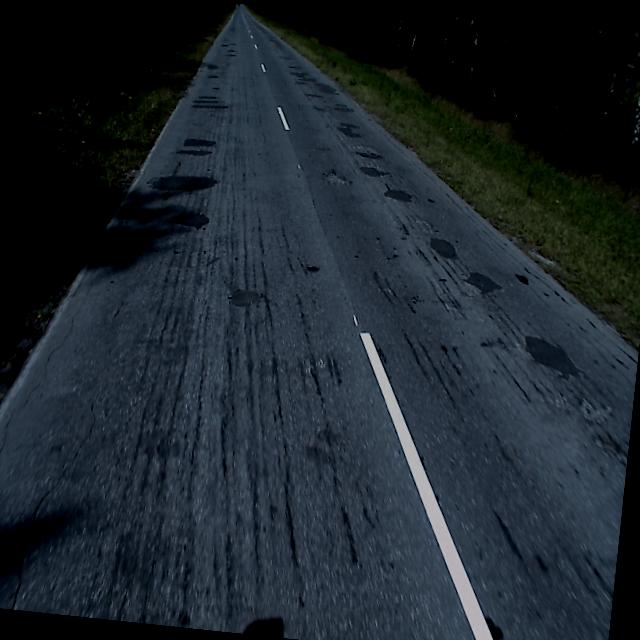road: (0, 3, 638, 640)
